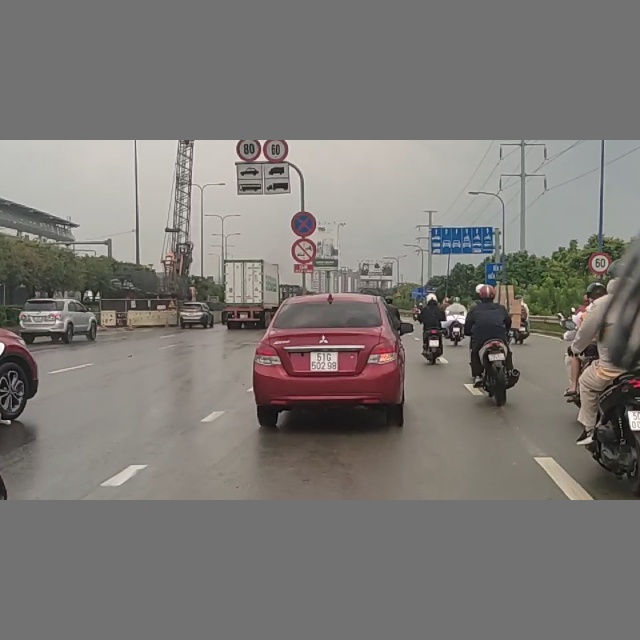P.127*60: (263, 141, 289, 162)
P.127*80: (236, 141, 261, 161)
P.130: (291, 211, 317, 237)
